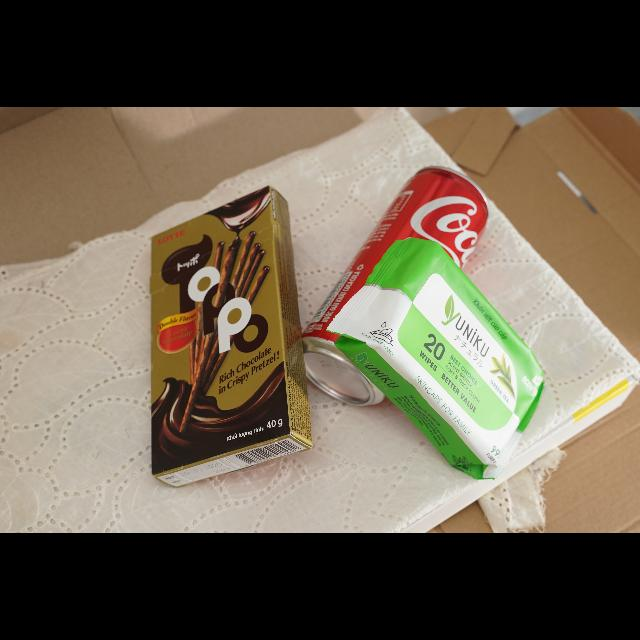banh_toppo_socola: (150, 187, 312, 486)
coca_cola: (303, 167, 488, 406)
khan_giay: (323, 239, 544, 481)
